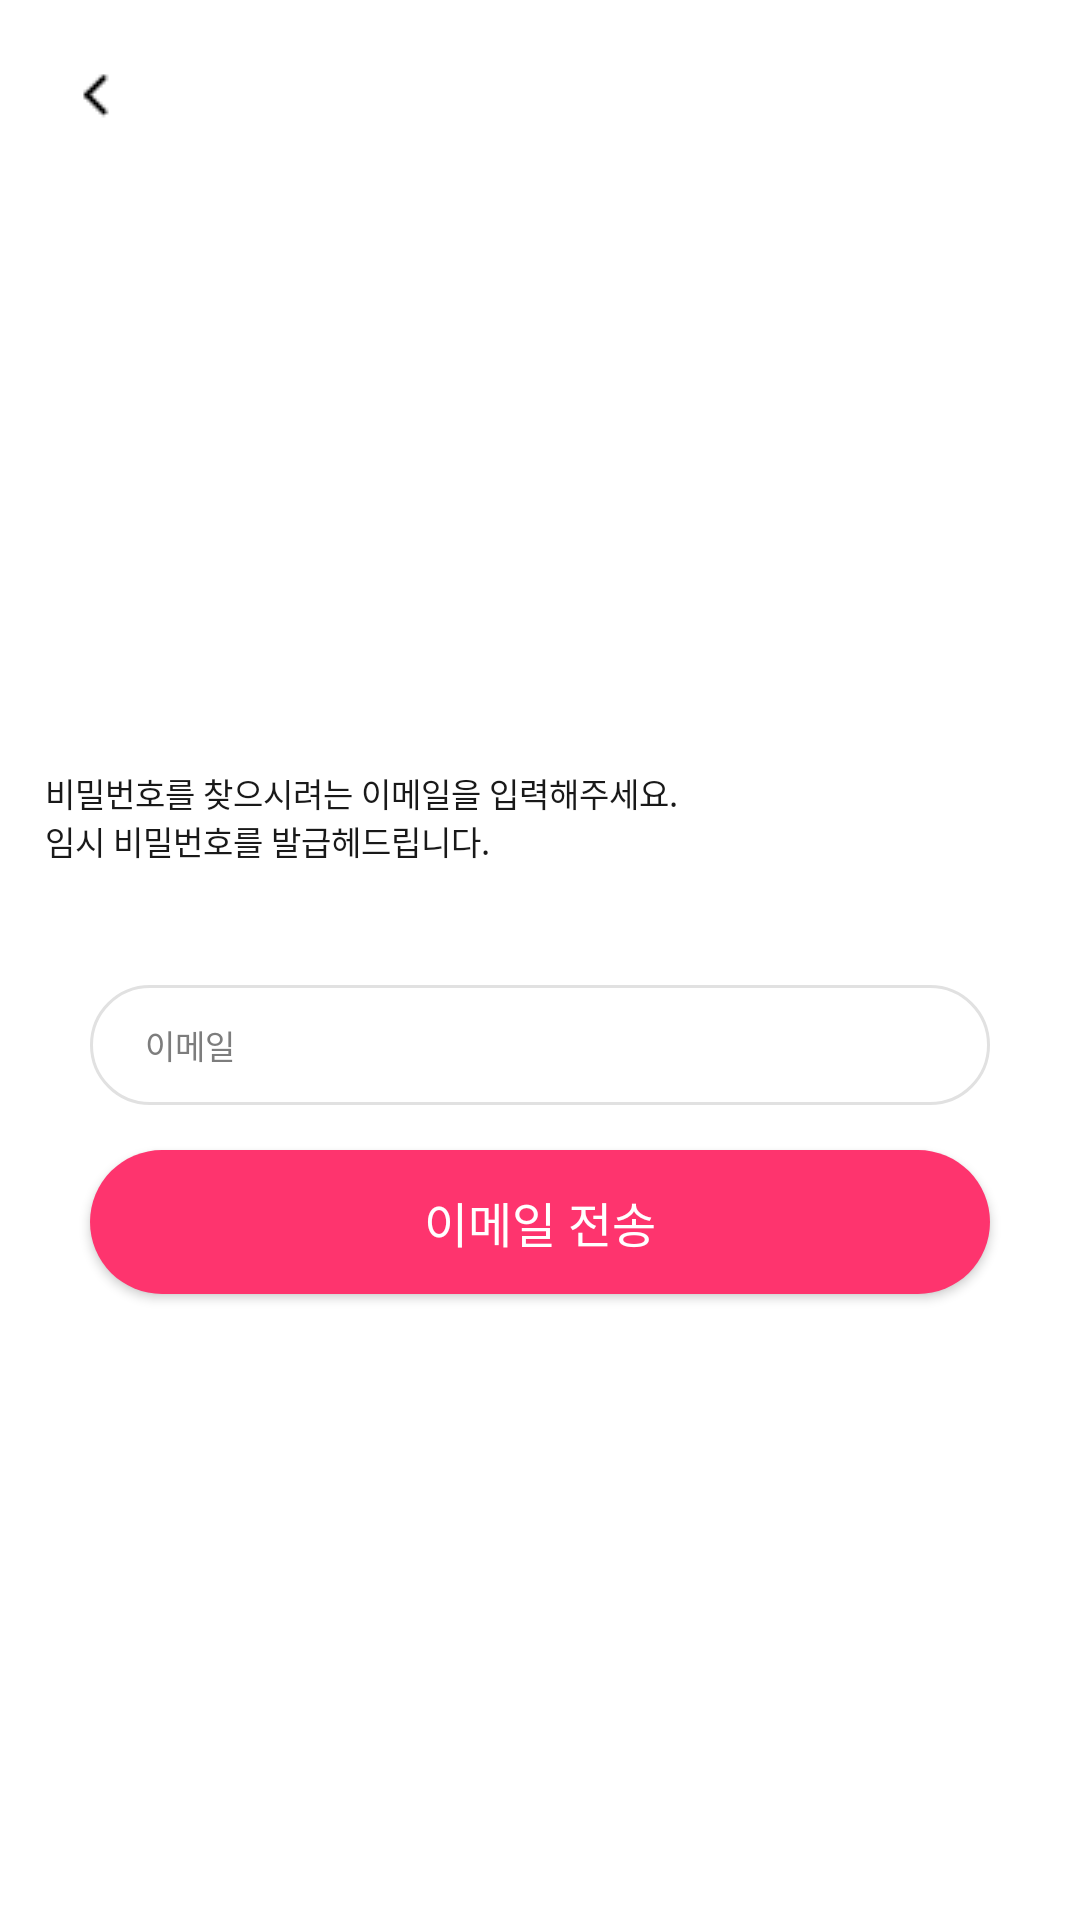

Named icons in this screenshot (1080*1920) and their centers, (x=x, y=y):
back: (x=96, y=95)
